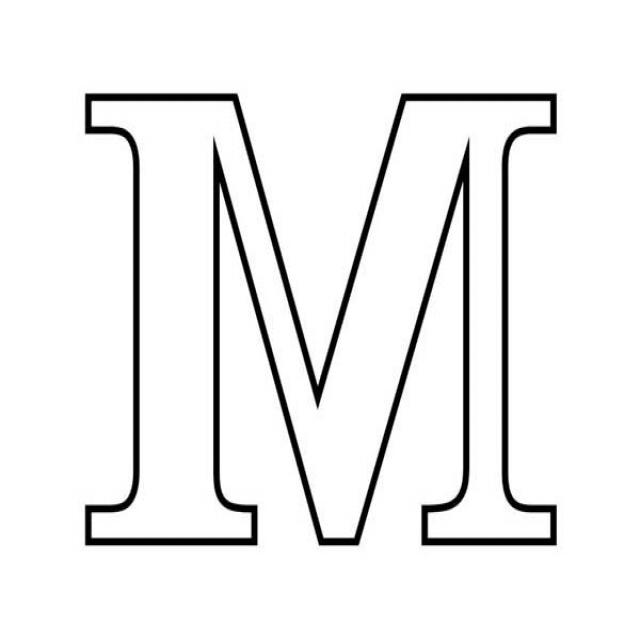M: (65, 45, 587, 578)
